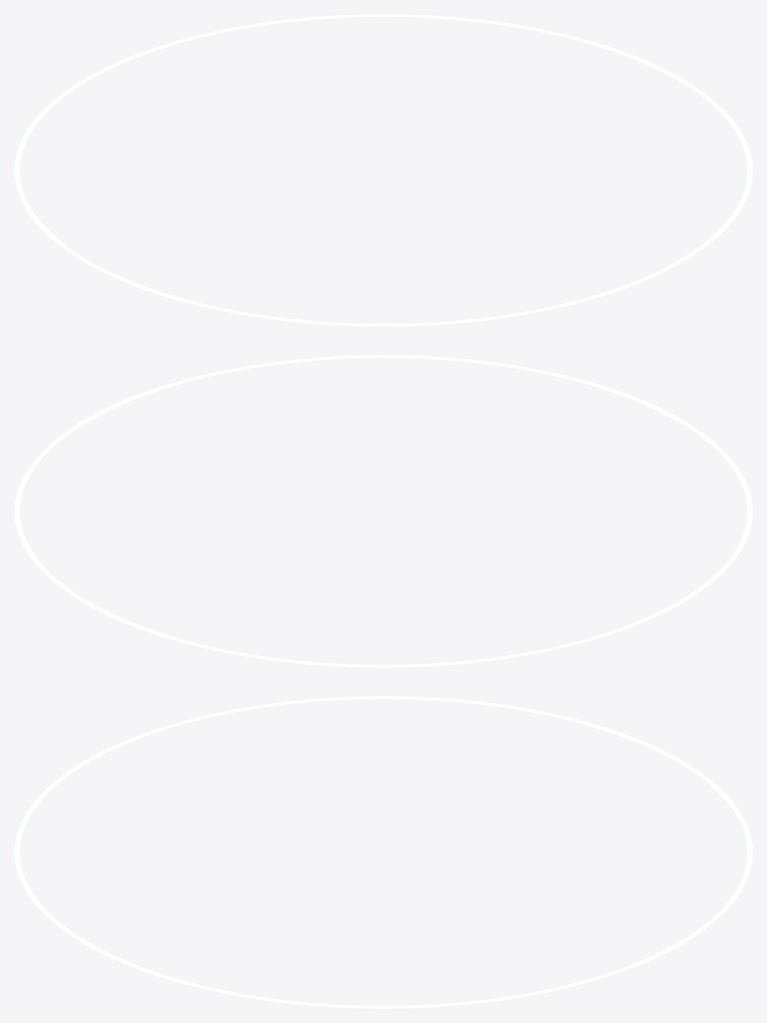
File: ENV_Arena_RuneRing.fbx
3 views of the same model, one above another, from view 1: azimuth 30°, elevation 25°; view 2: azimuth 150°, elevation 25°; view 3: azimuth 270°, elevation 25° (orthographic).
Parts seen in each view (by area): view 1: ENV_Arena_RuneRing; view 2: ENV_Arena_RuneRing; view 3: ENV_Arena_RuneRing.
Part boxes in pixels (x1,y1,x2,y2): ENV_Arena_RuneRing: (14, 14, 752, 326); ENV_Arena_RuneRing: (14, 355, 752, 667); ENV_Arena_RuneRing: (14, 696, 752, 1008).
Bounding box in the file's own units: 22.78 × 0.063 × 22.78.
